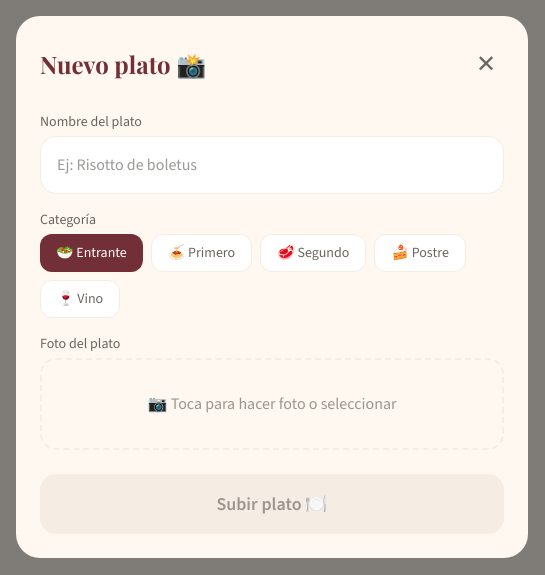
AddDishModal › submit is enabled when title is filled
The image size is (545, 575).
Type "Mi plato" into the field with placeholder "Ej: Risotto de boletus" at (272, 165), box [40,136,504,194]
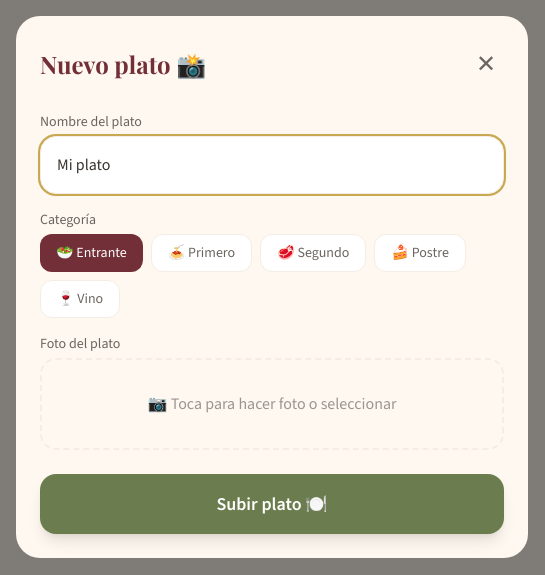
expect the button "Subir plato 🍽️" is enabled: met, box [40,474,504,534]
